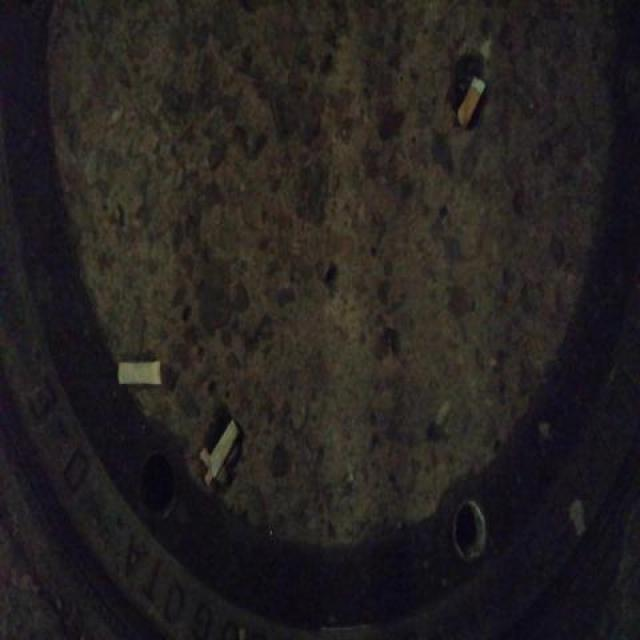non-organic waste: (206, 415, 241, 484), (453, 72, 488, 132), (111, 356, 165, 389)
